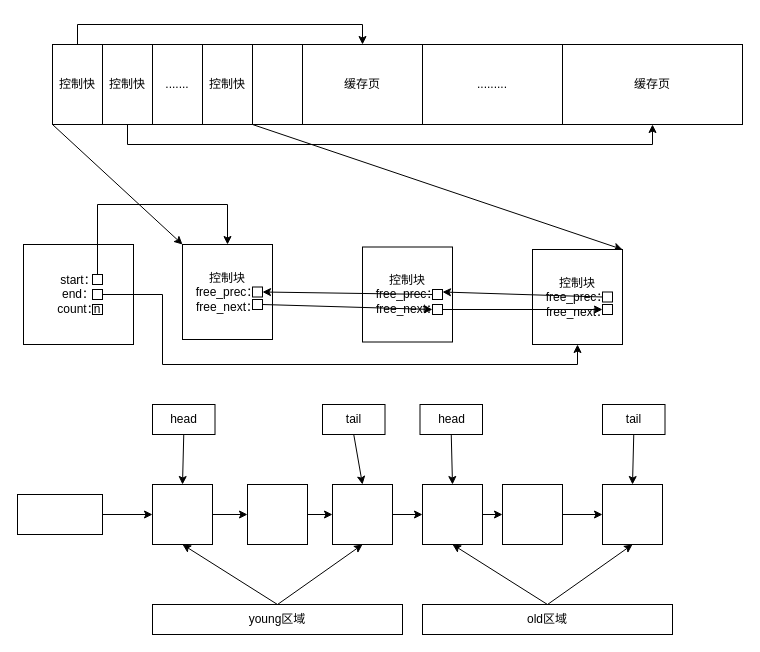
Image size: 760x652. Some labels were removed from this diagram. Here are the shapes that lost their labels. From the top down, the centre of each, then its label:
point (277, 84): 碎片
point (59, 514): LRU链表
